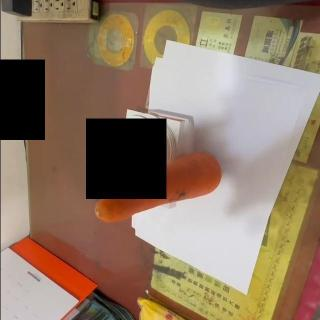carrot: (93, 151, 223, 223)
